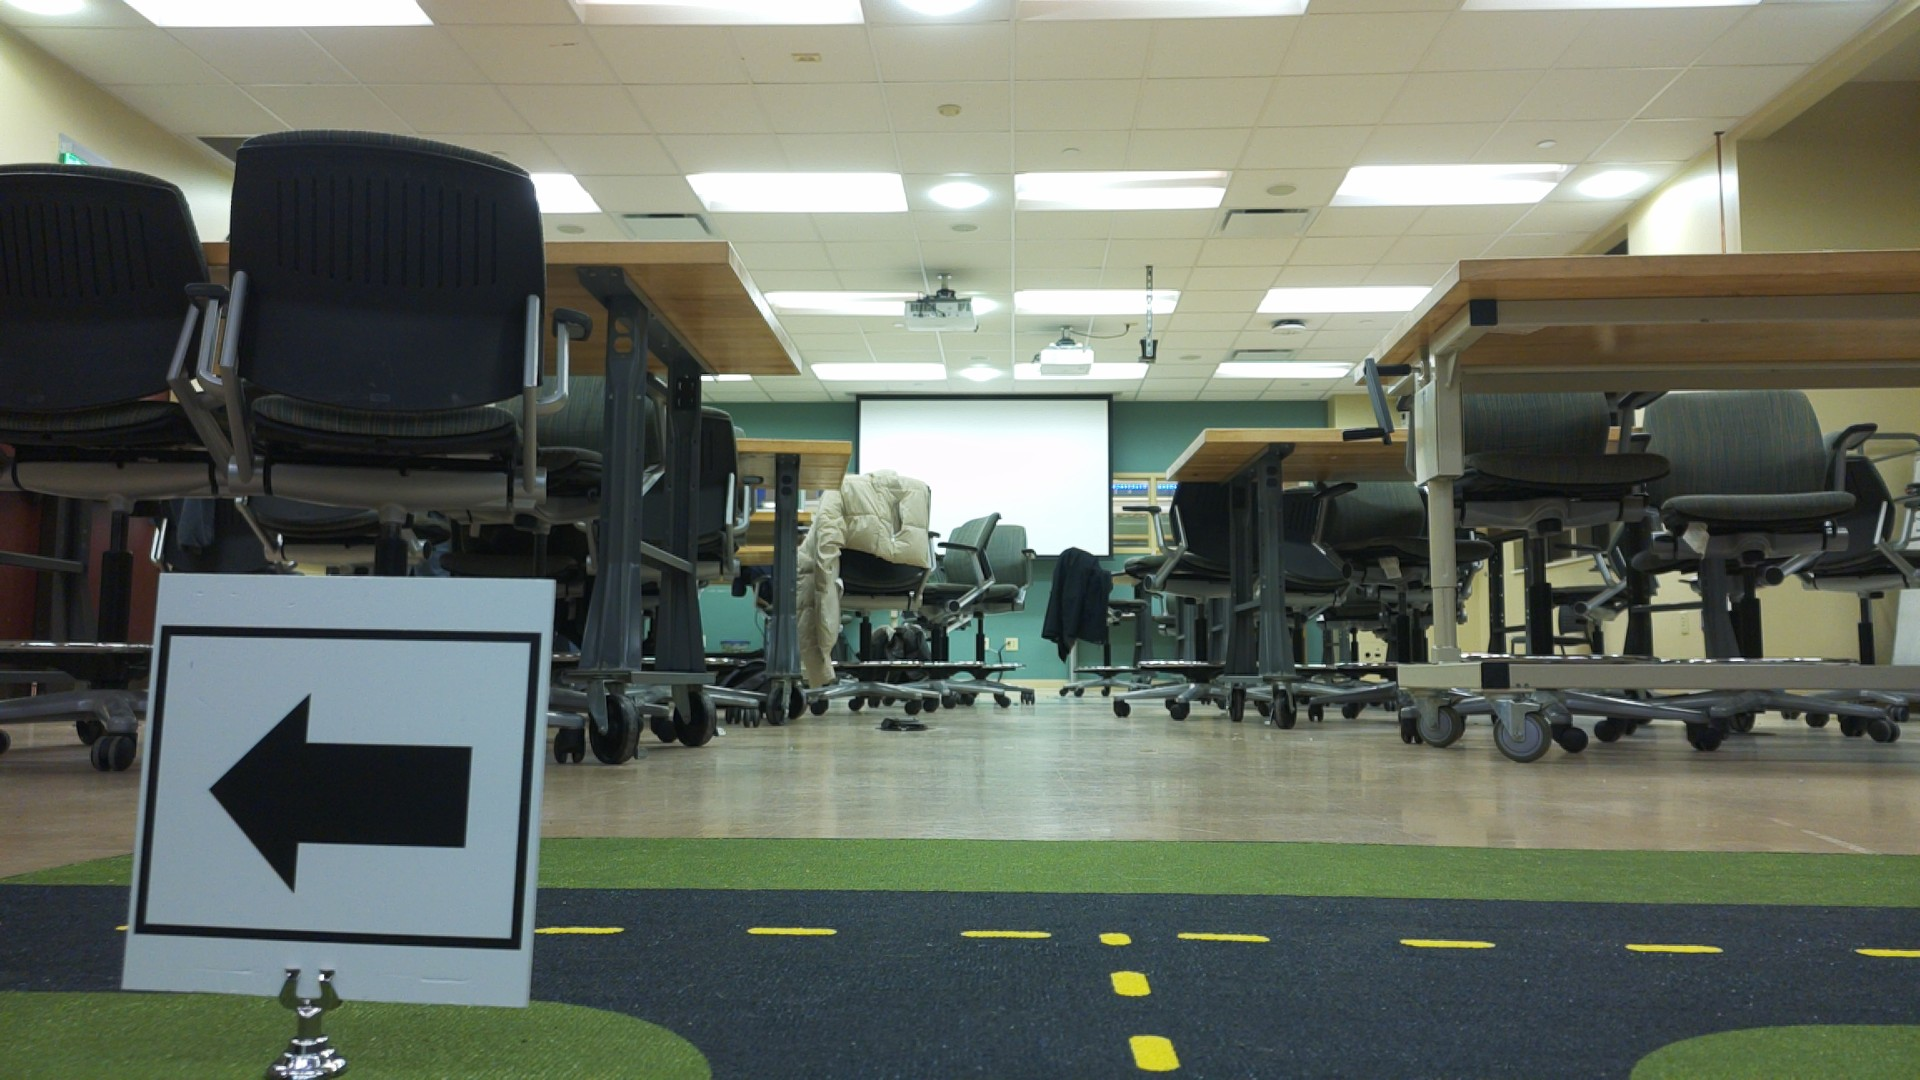turnleft: (160, 587, 534, 996)
